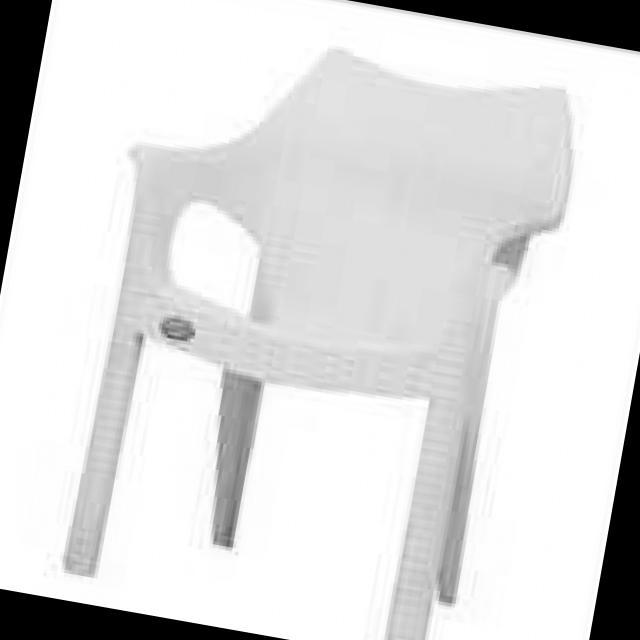chair: (35, 8, 593, 640)
